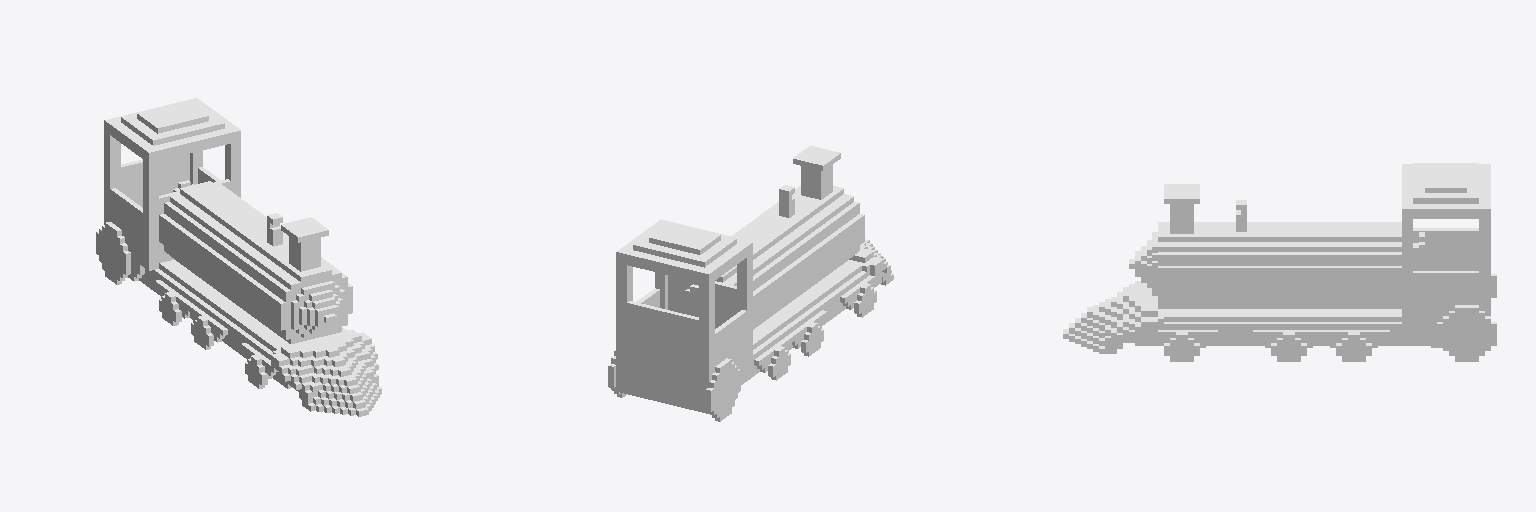
Rendered from Train3D.obj.
The picture shows the model from 3 angles: view 1: azimuth 30°, elevation 25°; view 2: azimuth 150°, elevation 25°; view 3: azimuth 270°, elevation 25°; orthographic projection.
Parts seen in each view (by area): view 1: object 1; view 2: object 1; view 3: object 1.
Boxes of the visible parts, <box> form: object 1: <box>96,98,381,416</box>; object 1: <box>608,145,893,421</box>; object 1: <box>1063,163,1496,361</box>.
Size of the model in its own units: 2 by 3 by 7.3.